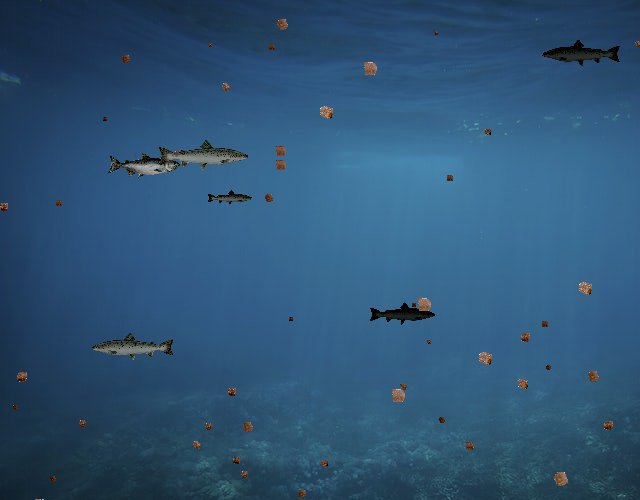Fish: (156, 139, 250, 173), (90, 331, 176, 362), (541, 38, 622, 67), (107, 152, 180, 179), (368, 301, 436, 326), (207, 189, 254, 206)
Pellet: (74, 415, 90, 431), (480, 125, 494, 139), (542, 361, 555, 374), (204, 40, 214, 49)
